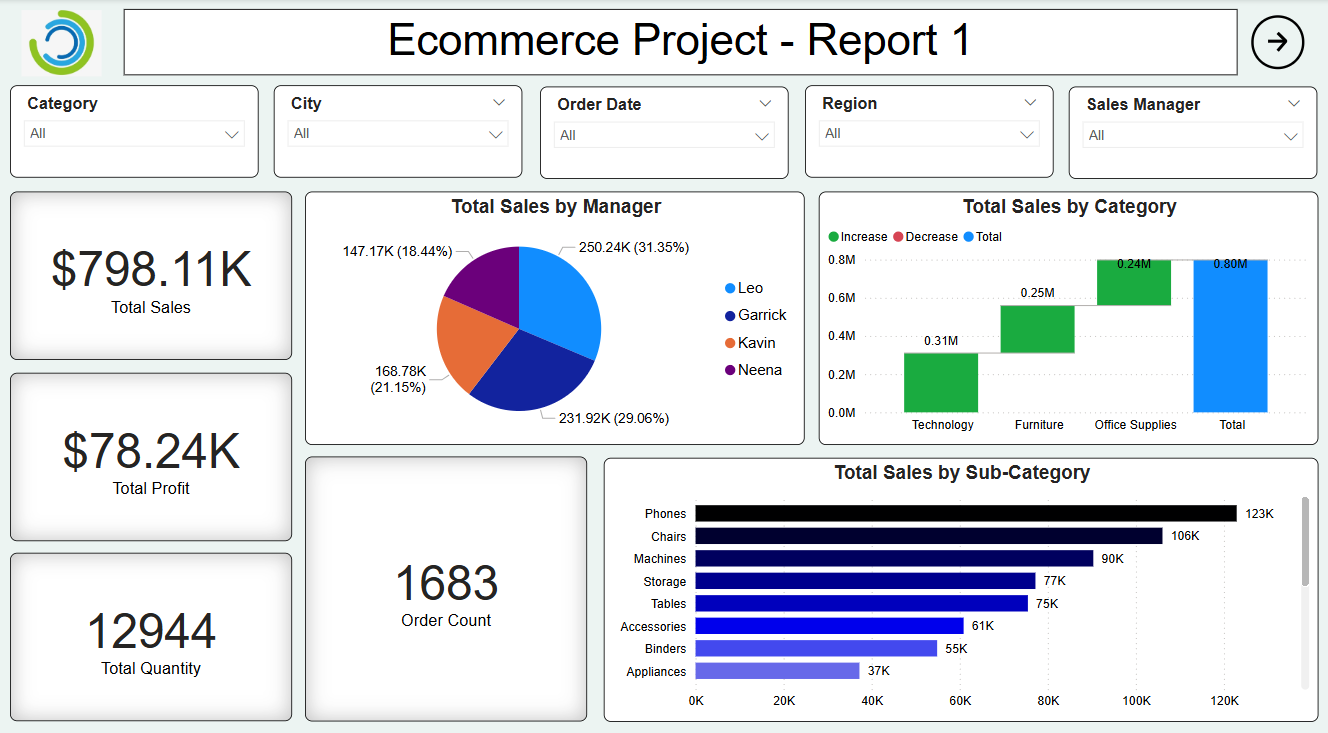

The dashboard page shown, as its layout file describes it:
{"tool":"powerbi","page":{"name":"Report 1","canvas":[1300,720],"ordinal":0},"visuals":[{"type":"textbox","box":[121.1,9.8,1089.5,64.8],"z":0},{"type":"slicer","fields":{"Values":["Orders.Category"]},"box":[9.8,84.4,243,90],"z":1000},{"type":"slicer","fields":{"Values":["Orders.City"]},"box":[267.8,84.4,243.3,90],"z":2000},{"type":"slicer","fields":{"Values":["Orders.Order Date"]},"box":[528.3,85.6,243.3,90],"z":3000},{"type":"slicer","fields":{"Values":["Orders.Region"]},"box":[787.5,84.4,243.3,90],"z":4000},{"type":"slicer","fields":{"Values":["Orders.Sales Manager"]},"box":[1045.5,85.6,243.3,90],"z":5000},{"type":"card","fields":{"Values":["Sum(Orders.Sales)"]},"box":[9.8,188.3,276.4,165],"z":6000},{"type":"card","fields":{"Values":["Sum(Orders.Profit)"]},"box":[9.8,365.6,276.4,165.1],"z":7000},{"type":"card","fields":{"Values":["Sum(Orders.Quantity)"]},"box":[9.8,541.7,276.4,165.1],"z":8000},{"type":"card","fields":{"Values":["Count(Orders.Order ID)"]},"box":[298.4,447.6,276.4,259.2],"z":9000},{"type":"pieChart","title":"Total Sales by Manager","fields":{"Category":["Orders.Sales Manager"],"Y":["Orders.total sales"]},"box":[298.4,188.3,489.1,248.2],"z":10000},{"type":"waterfallChart","title":"Total Sales by Category","fields":{"Category":["Orders.Category"],"Y":["Orders.total sales"]},"box":[801,188.3,489.1,248.2],"z":11000},{"type":"actionButton","box":[1224.1,15.9,52,52.6],"z":12000},{"type":"image","box":[9.8,6.1,101.5,74.6],"z":13000},{"type":"barChart","title":"Total Sales by Sub-Category","fields":{"Y":["Orders.total sales"],"Category":["Orders.Sub-Category"]},"box":[590.6,448.8,699.5,258],"z":14000}]}

Visuals, with their boxes in screenshot pixels (x1, y1, x2, y2), scaled from the page's 1300x720 canvas onto the 1328x733 screenshot:
textbox: 124, 10, 1237, 76
slicer - Orders.Category: 10, 86, 258, 178
slicer - Orders.City: 274, 86, 522, 178
slicer - Orders.Order Date: 540, 87, 788, 179
slicer - Orders.Region: 804, 86, 1053, 178
slicer - Orders.Sales Manager: 1068, 87, 1317, 179
card - Sum(Orders.Sales): 10, 192, 292, 360
card - Sum(Orders.Profit): 10, 372, 292, 540
card - Sum(Orders.Quantity): 10, 551, 292, 720
card - Count(Orders.Order ID): 305, 456, 587, 720
"Total Sales by Manager" pieChart: 305, 192, 804, 444
"Total Sales by Category" waterfallChart: 818, 192, 1318, 444
actionButton: 1250, 16, 1304, 70
image: 10, 6, 114, 82
"Total Sales by Sub-Category" barChart: 603, 457, 1318, 720
